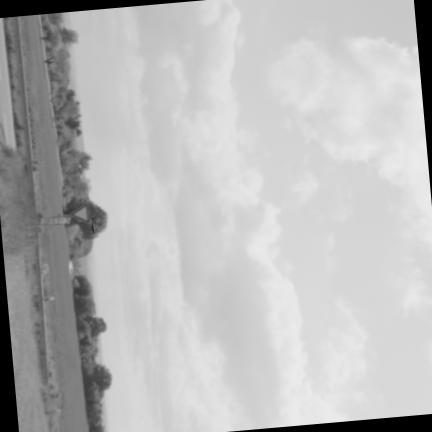Shahed: (90, 215, 95, 235)
